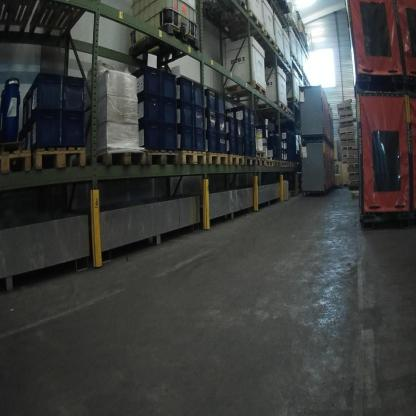pallet: (29, 1, 100, 48), (27, 143, 89, 171), (0, 0, 37, 41), (86, 146, 149, 170), (219, 10, 264, 42), (223, 78, 268, 104), (2, 148, 32, 180), (237, 30, 277, 54), (179, 146, 208, 167), (262, 107, 295, 125), (147, 151, 180, 168), (254, 46, 285, 64), (206, 148, 230, 168), (256, 102, 289, 115), (264, 59, 289, 72), (231, 151, 246, 169), (245, 149, 257, 168), (288, 97, 301, 107), (346, 160, 360, 169), (296, 60, 305, 74), (264, 156, 273, 169), (288, 50, 296, 64), (289, 161, 299, 172), (338, 103, 353, 110), (338, 119, 353, 126), (254, 157, 267, 165), (338, 129, 354, 135), (346, 152, 360, 158), (347, 170, 360, 176), (257, 150, 266, 158), (272, 160, 281, 168), (339, 114, 353, 119), (339, 137, 355, 141), (341, 151, 350, 158), (282, 160, 289, 169), (349, 179, 359, 185), (340, 145, 353, 149), (341, 160, 348, 164)
small_load_carrier: (32, 66, 62, 112), (32, 111, 62, 152), (59, 74, 84, 116), (61, 108, 87, 148), (134, 64, 162, 99), (135, 118, 162, 152), (138, 92, 163, 127), (173, 74, 194, 105), (173, 100, 195, 129), (174, 124, 195, 151), (163, 67, 178, 103), (161, 119, 177, 152), (16, 126, 30, 161), (162, 97, 178, 126), (216, 90, 229, 120), (194, 75, 206, 107), (193, 106, 207, 131), (194, 126, 207, 151), (204, 87, 217, 111), (234, 105, 250, 124), (206, 107, 218, 131), (27, 82, 34, 123), (25, 121, 33, 154), (216, 114, 227, 138), (234, 119, 244, 143), (207, 129, 218, 150), (217, 135, 229, 154), (22, 90, 28, 123), (228, 116, 237, 138), (224, 108, 236, 124), (257, 123, 268, 140), (236, 139, 246, 157), (226, 137, 237, 153), (248, 107, 256, 127), (243, 123, 251, 142), (243, 137, 251, 155), (251, 123, 257, 141), (251, 141, 257, 158), (278, 149, 284, 160), (281, 138, 285, 152)
